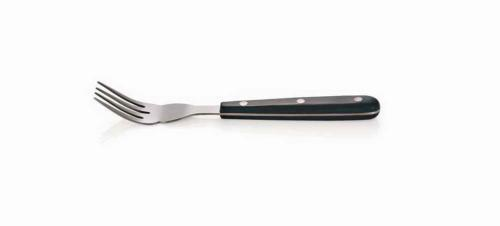Fork: (93, 81, 380, 126)
